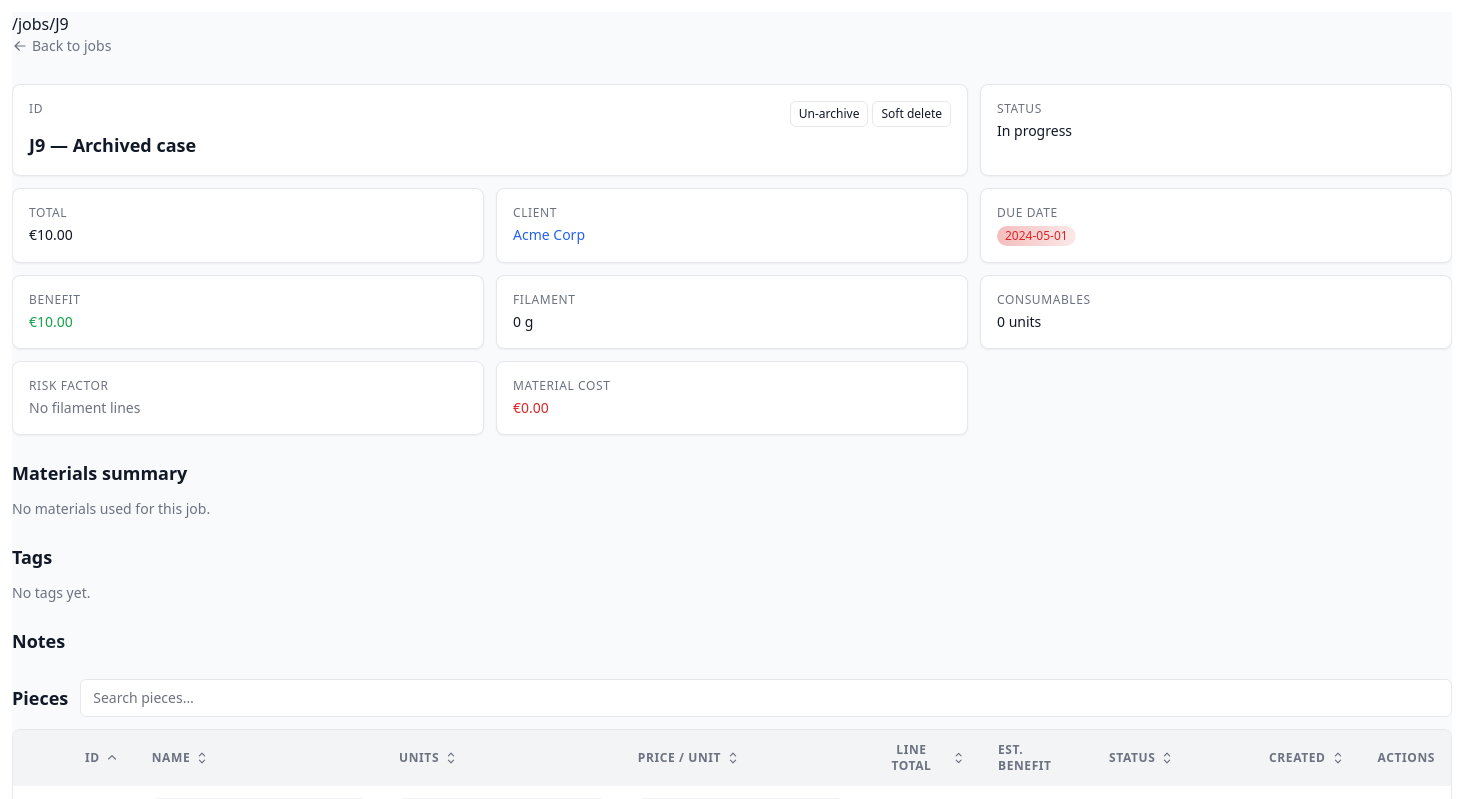
Test: JobDetailPage › renders an archived job as read-only with un-archive and soft delete only
Click the button with test id "entity-detail-unarchive".
click(829, 114)  # box [790,101,868,127]
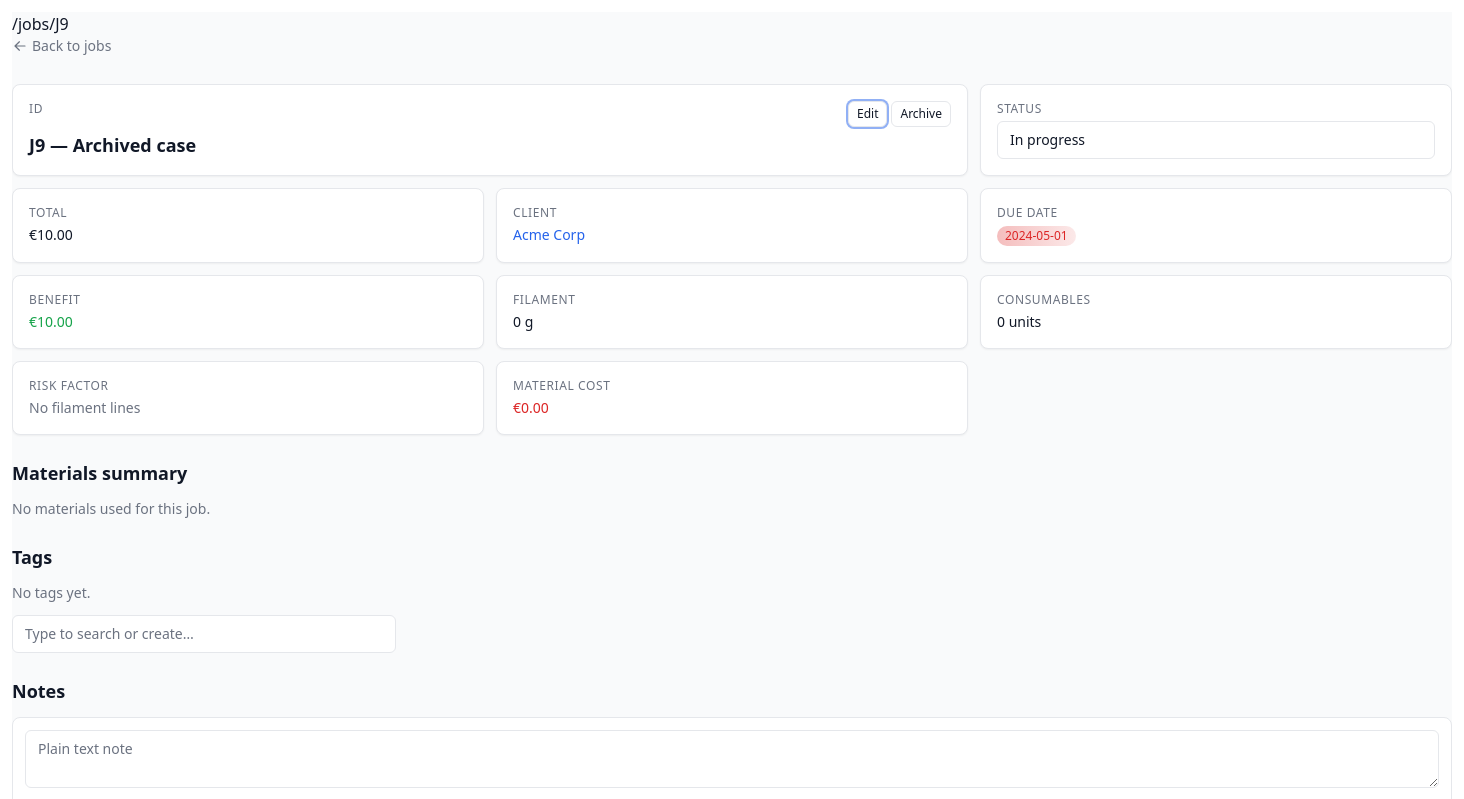
Check: the button with test id "entity-detail-edit" is shown, box [848,101,888,127]
